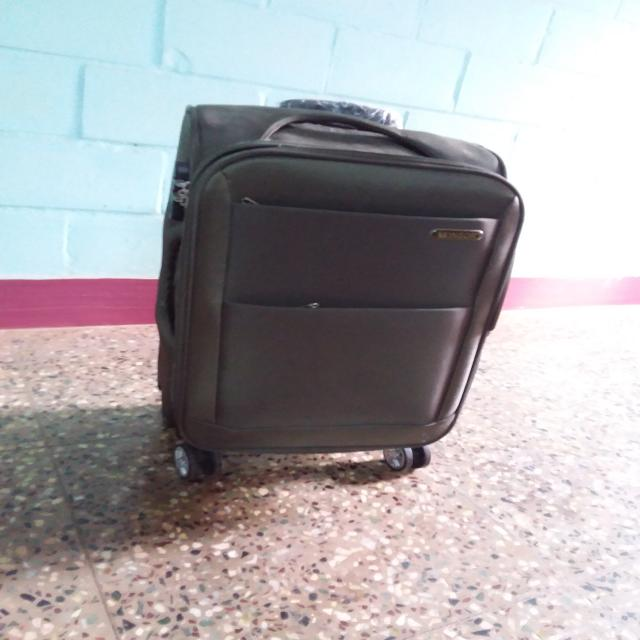suitcaserotation: (150, 94, 530, 485)
